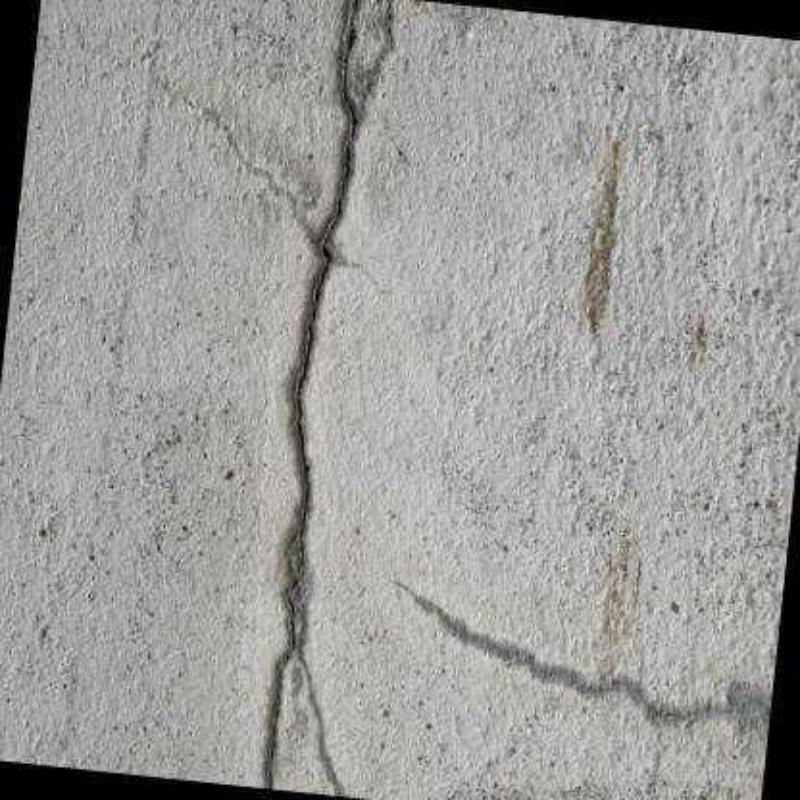pothole: (262, 0, 357, 787)
